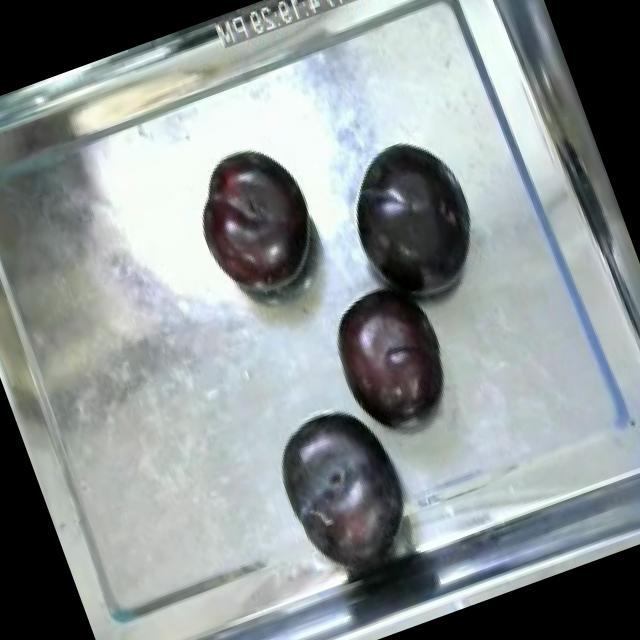Fruit: (254, 387, 434, 589), (324, 120, 498, 316), (176, 130, 334, 312), (312, 266, 468, 444)
